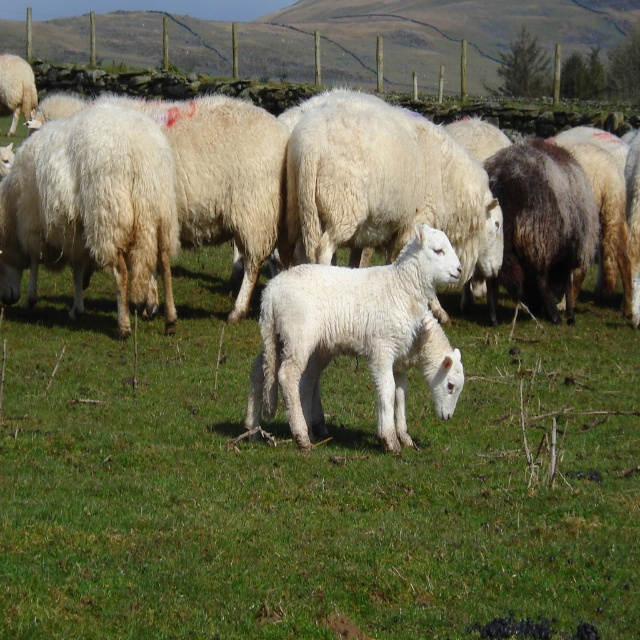Sheep: (0, 51, 640, 456)
